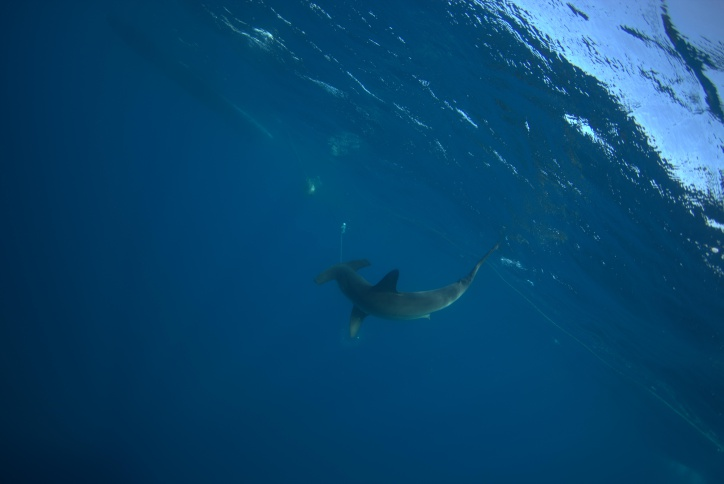Hammer: (294, 221, 546, 364)
